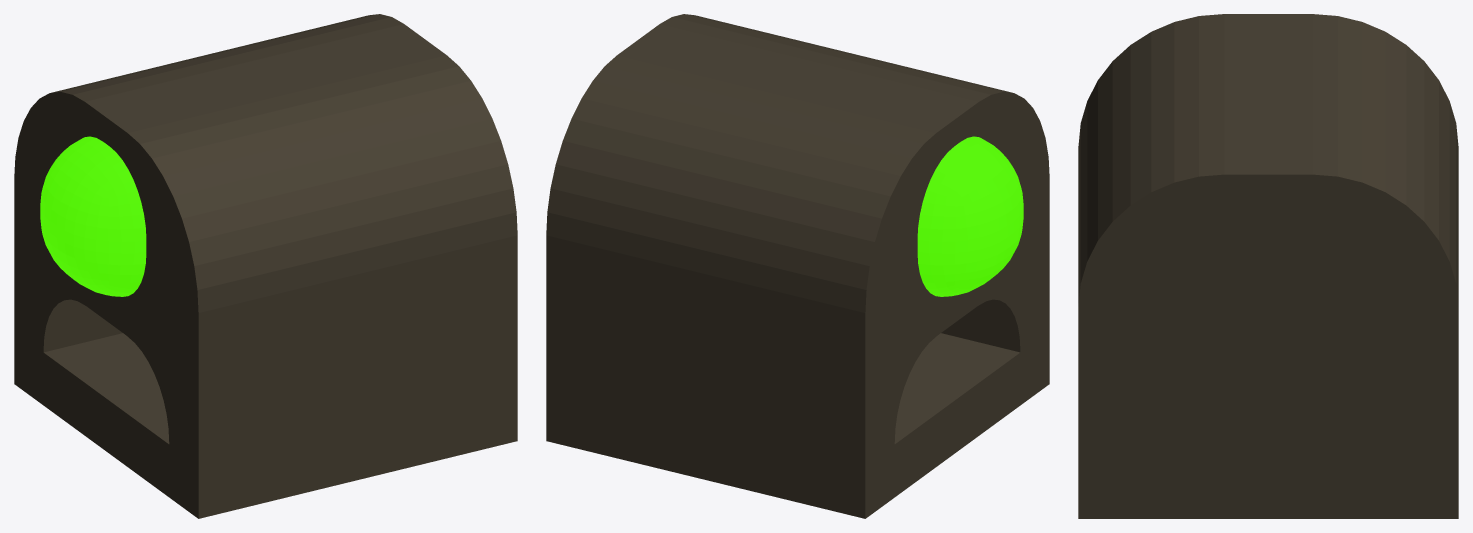
The model's file is boxout.glb.
3 views of the same model, side by side, from view 1: azimuth 30°, elevation 25°; view 2: azimuth 150°, elevation 25°; view 3: azimuth 270°, elevation 25° (orthographic). The views are drawn at different scales.
Visible parts, largest first — view 1: CubeLight-col, Cube.003; view 2: CubeLight-col, Cube.003; view 3: CubeLight-col.
Part boxes in pixels (<box>): CubeLight-col: <box>14,14,517,518</box>; Cube.003: <box>40,136,146,296</box>; CubeLight-col: <box>546,14,1049,518</box>; Cube.003: <box>917,136,1023,296</box>; CubeLight-col: <box>1078,14,1458,518</box>.
Size of the model in its own units: 2.33 by 2 by 2.
